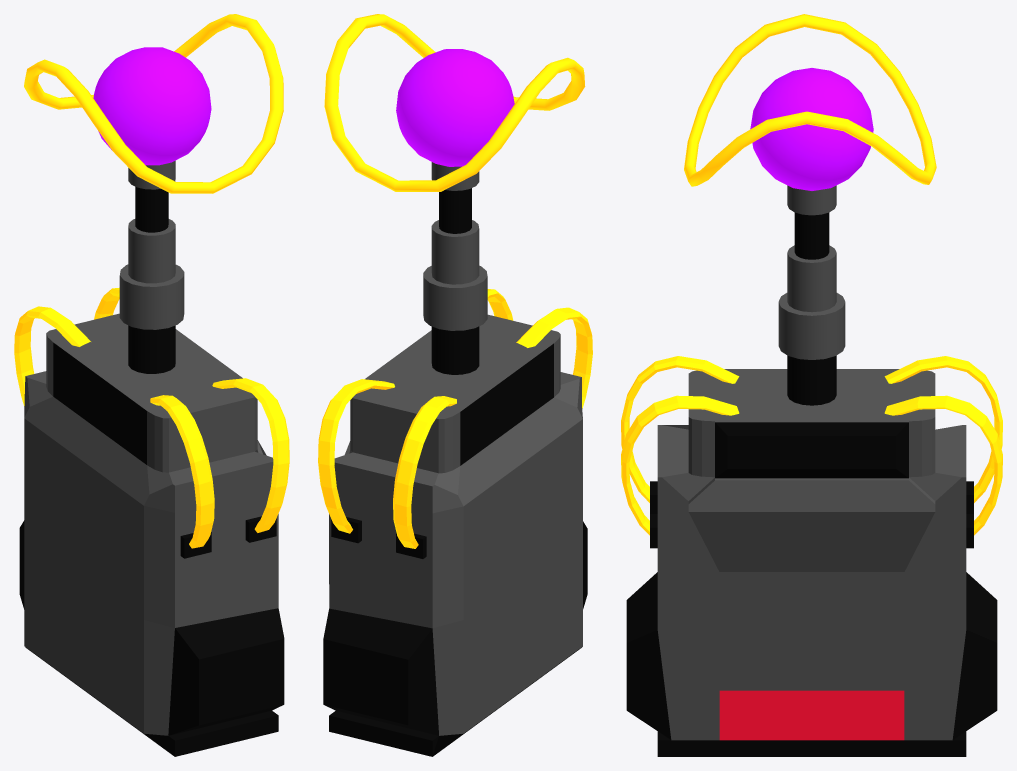
Rendered from Portal.fbx.
The picture shows the model from 3 angles, left to right: view 1: azimuth 30°, elevation 25°; view 2: azimuth 150°, elevation 25°; view 3: azimuth 270°, elevation 25°; orthographic projection. The views are drawn at different scales.
Parts seen in each view (by area): view 1: Cube, Icosphere, Cylinder, BézierCurve, BézierCircle; view 2: Cube, Icosphere, Cylinder, BézierCurve, BézierCircle; view 3: Cube, Cylinder, BézierCurve, Icosphere, BézierCircle.
Part boxes in pixels (left/top/right/bottom): Cube: left=19, top=313, right=284, bottom=756; Icosphere: left=93, top=47, right=211, bottom=165; Cylinder: left=119, top=160, right=184, bottom=373; BézierCurve: left=14, top=287, right=289, bottom=558; BézierCircle: left=24, top=14, right=283, bottom=193; Cube: left=323, top=314, right=587, bottom=756; Icosphere: left=396, top=49, right=514, bottom=166; Cylinder: left=423, top=162, right=487, bottom=374; BézierCurve: left=318, top=289, right=592, bottom=558; BézierCircle: left=324, top=14, right=585, bottom=191; Cube: left=626, top=369, right=997, bottom=756; Cylinder: left=778, top=185, right=845, bottom=405; BézierCurve: left=621, top=356, right=1002, bottom=548; Icosphere: left=750, top=68, right=873, bottom=190; BézierCircle: left=684, top=14, right=936, bottom=186.
Size of the model in its own units: 396 by 1195 by 619.
